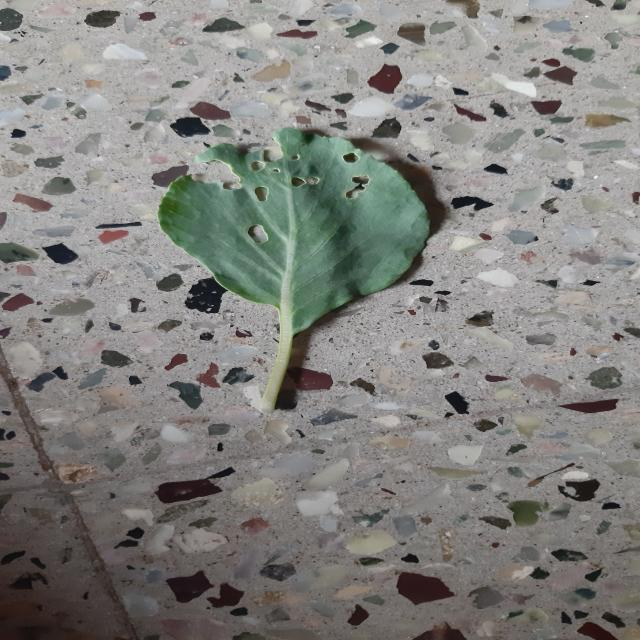Kohlrabi: (158, 128, 429, 414)
